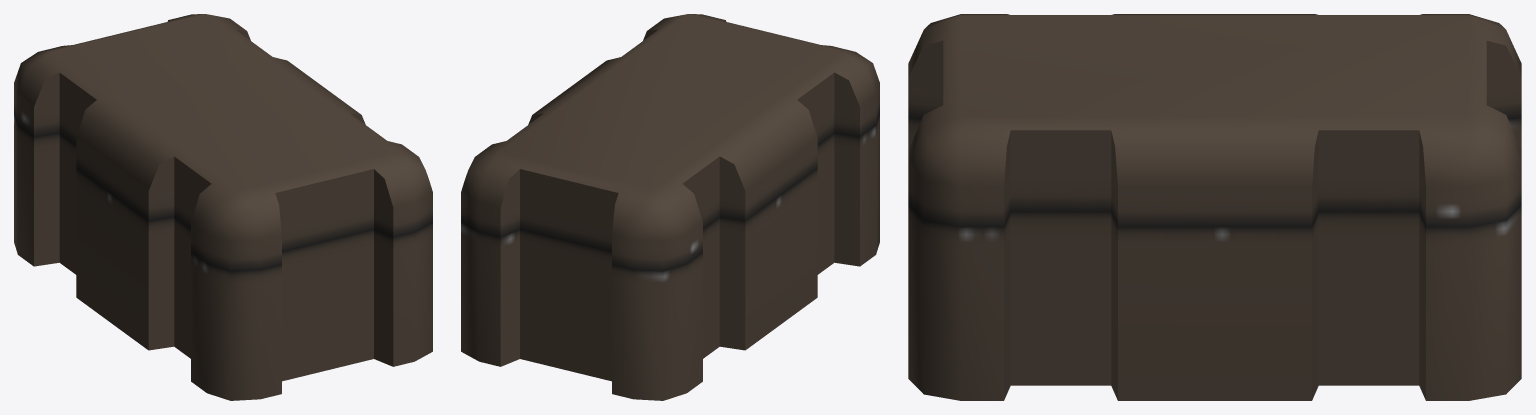
The model's file is Crate_Small.fbx.
3 renders of one model, left to right at view 1: azimuth 30°, elevation 25°; view 2: azimuth 150°, elevation 25°; view 3: azimuth 270°, elevation 25°, orthographic. The views are drawn at different scales.
Visible parts, largest first — view 1: Crate_Small; view 2: Crate_Small; view 3: Crate_Small.
Part boxes in pixels (<box>): Crate_Small: <box>14,14,432,400</box>; Crate_Small: <box>461,14,879,400</box>; Crate_Small: <box>908,14,1521,400</box>.
Size of the model in its own units: 1.13 by 0.9455 by 2.01.
